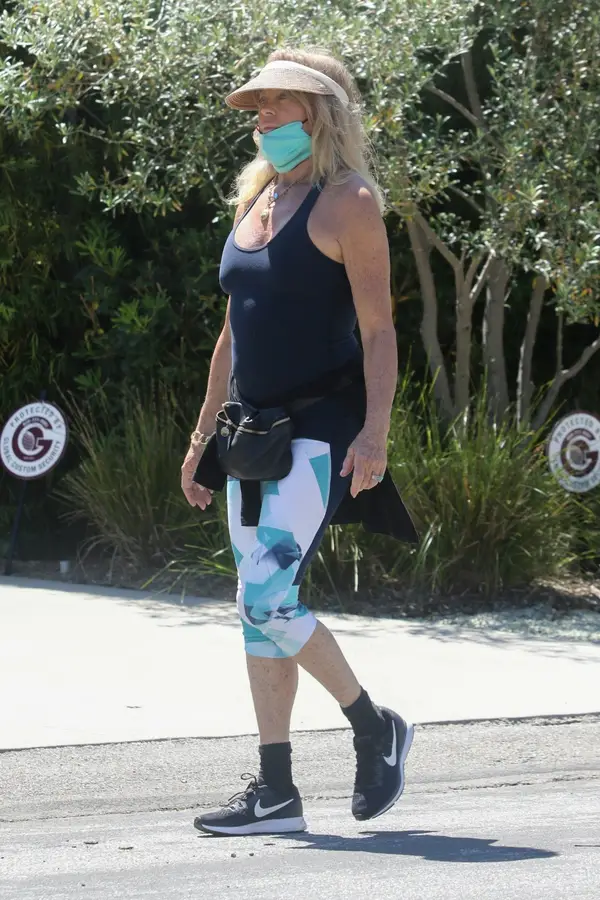mask_weared_incorrect: (236, 82, 339, 182)
